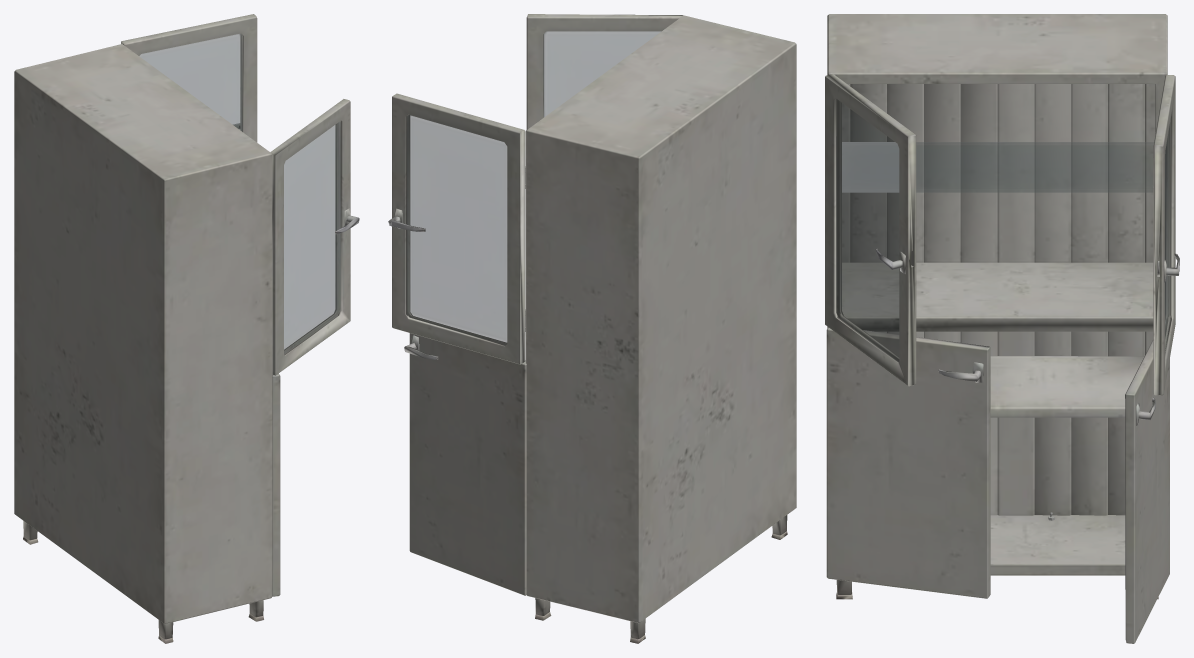
File: med-cabinet.lod0.glb
3 renders of one model, left to right at view 1: azimuth 30°, elevation 25°; view 2: azimuth 150°, elevation 25°; view 3: azimuth 270°, elevation 25°, orthographic. The views are drawn at different scales.
Parts seen in each view (by area): view 1: Object_24; view 2: Object_24; view 3: Object_24.
Part boxes in pixels (x1,y1,x2,y2): Object_24: [14, 14, 359, 643]; Object_24: [388, 14, 796, 643]; Object_24: [825, 14, 1179, 643].
Bounding box in the file's own units: 0.9345 × 1.75 × 1.06.
1 material, 1 textured.
